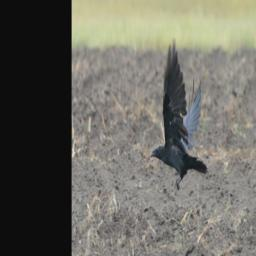Crow: (148, 36, 209, 193)
